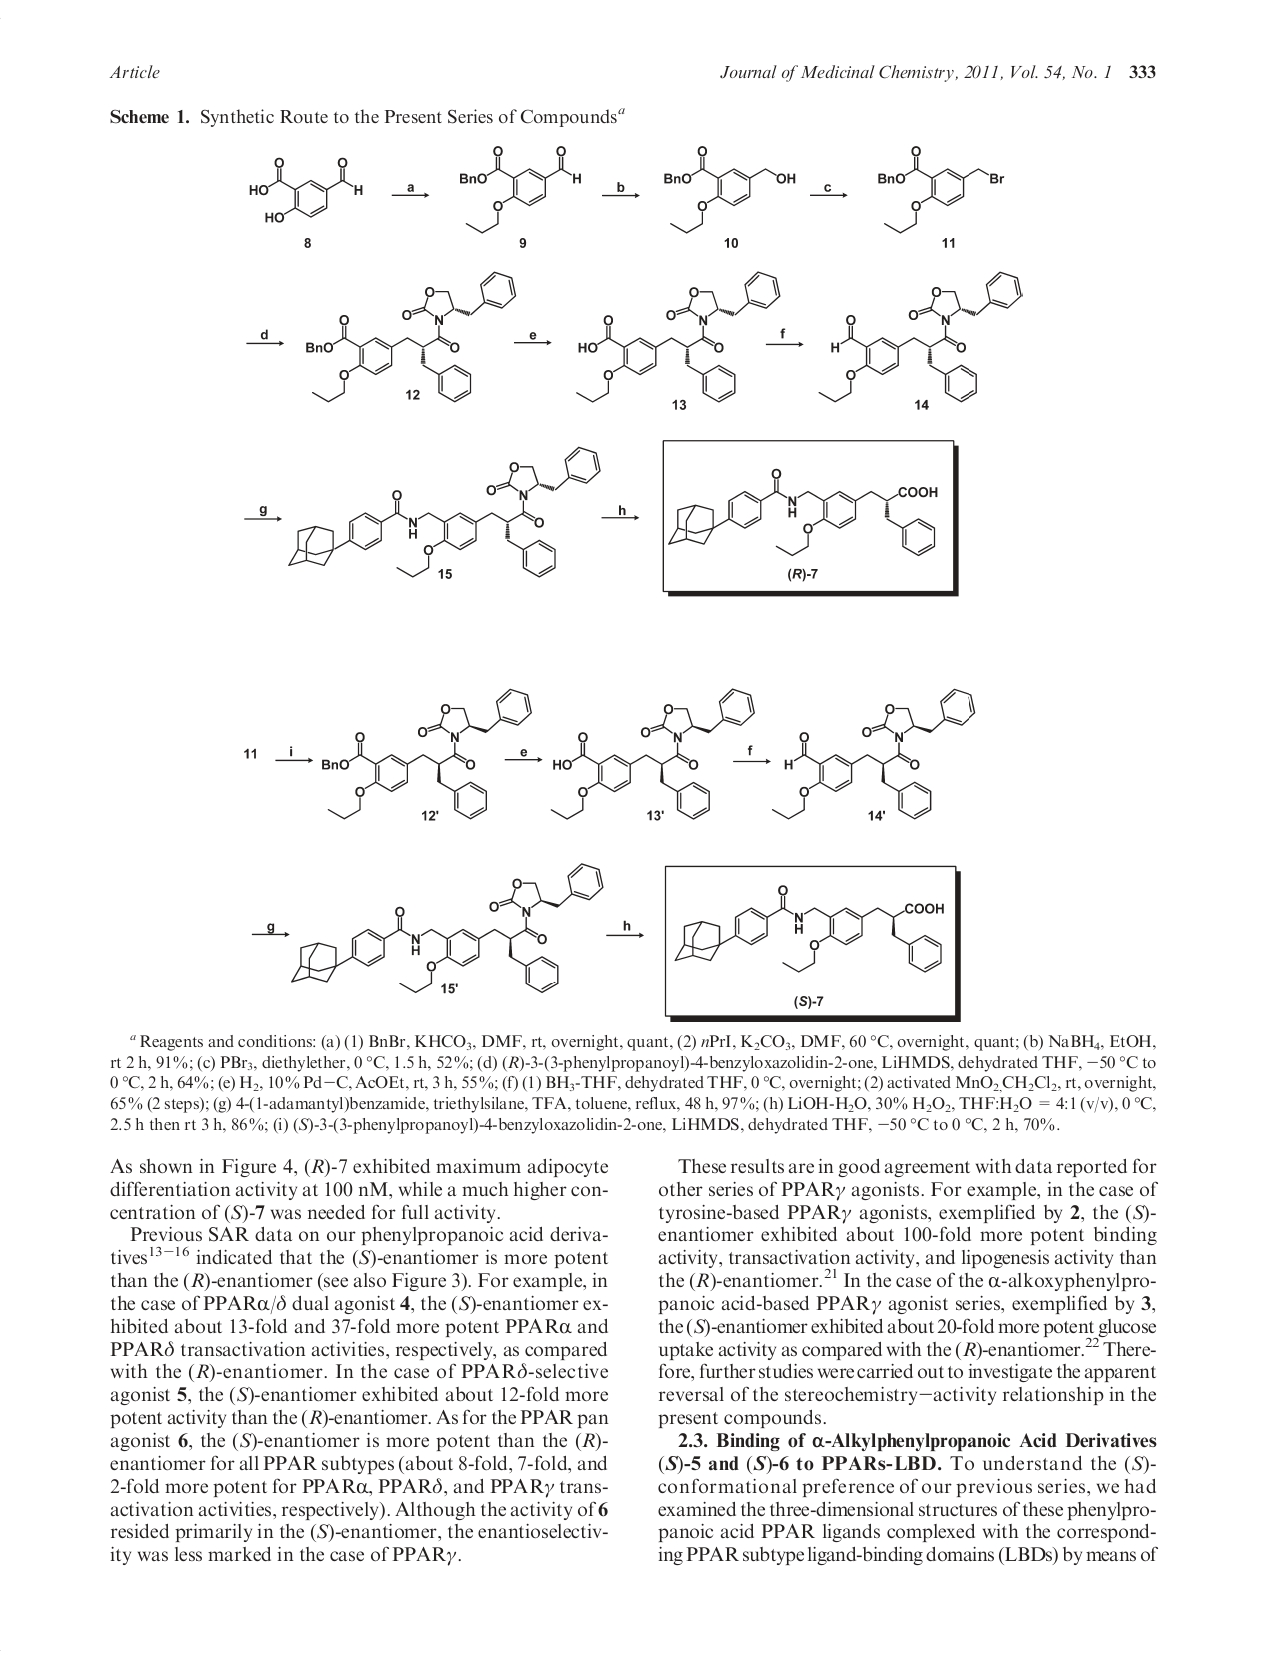exist_molecular: (290, 860, 606, 995), (287, 444, 602, 578), (305, 269, 520, 408), (570, 267, 785, 403), (815, 269, 1025, 406), (320, 686, 533, 821), (549, 684, 755, 822), (770, 686, 976, 821), (672, 882, 949, 979), (668, 465, 940, 564), (872, 140, 1011, 235), (662, 142, 801, 234), (452, 144, 585, 237), (247, 152, 364, 223)
